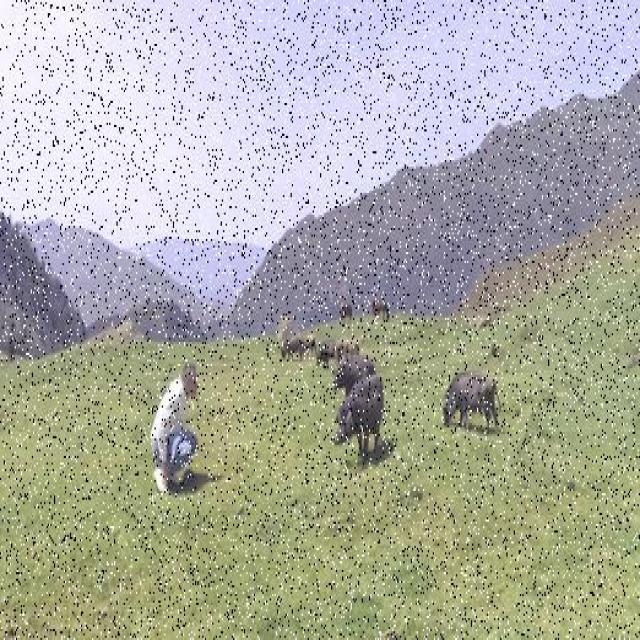fall: (142, 362, 206, 488)
